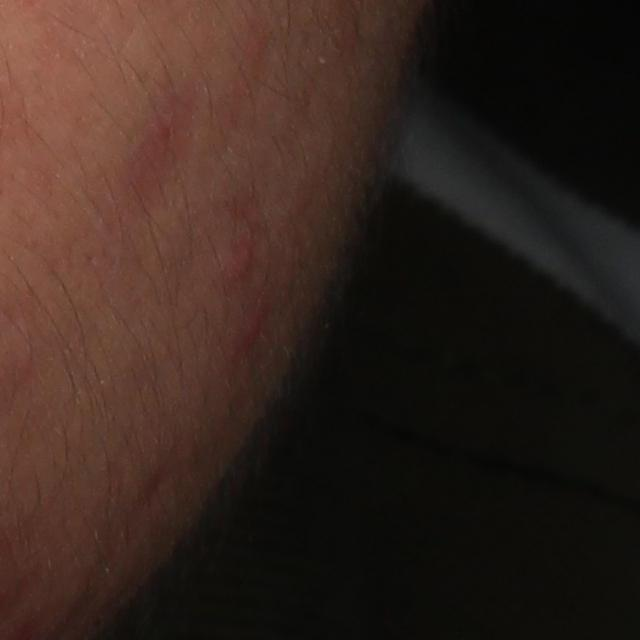papule: (220, 236, 255, 289), (234, 302, 267, 353)
